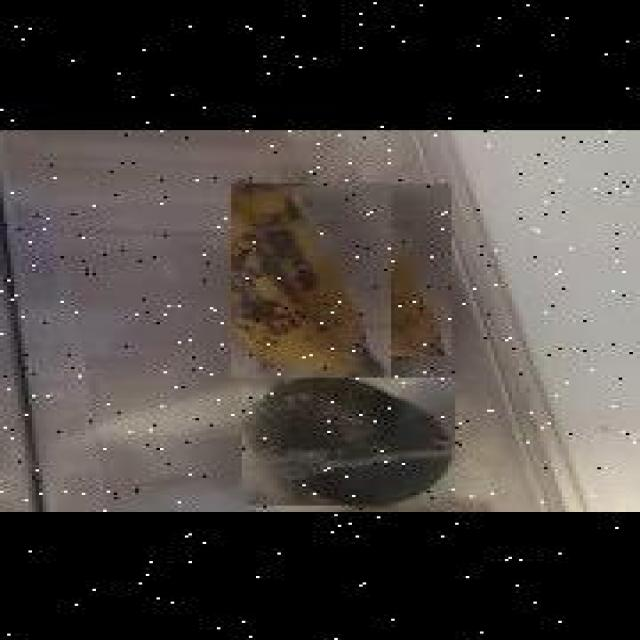avocado: (243, 374, 457, 502)
banana: (246, 175, 452, 354), (231, 182, 391, 376)
